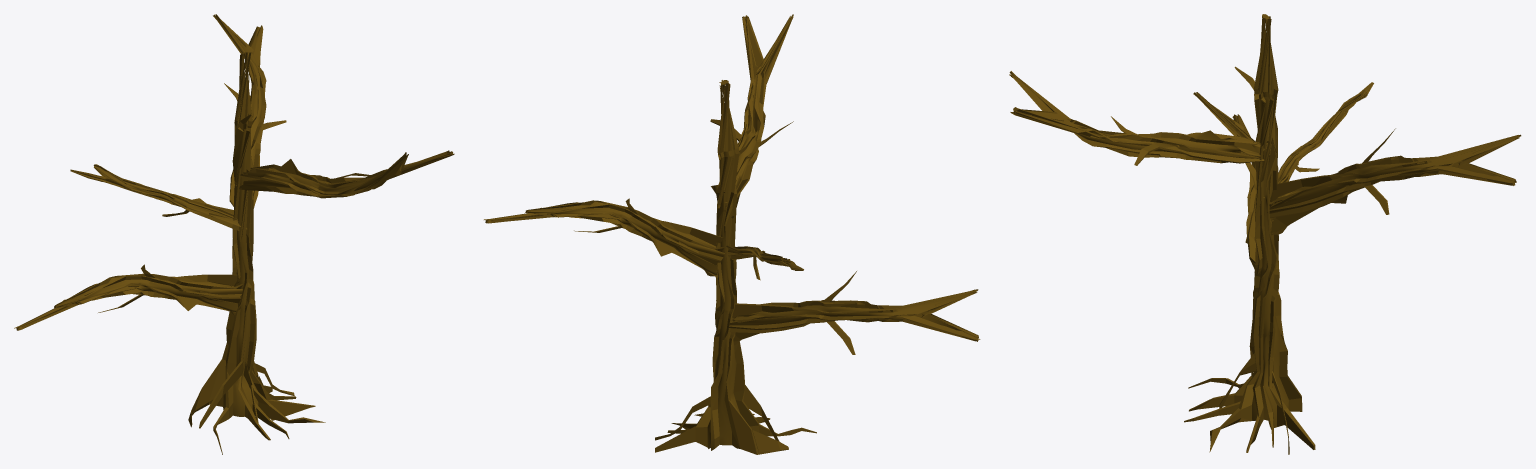
File: jungle_alpha_04.dae
3 renders of one model, left to right at view 1: azimuth 30°, elevation 25°; view 2: azimuth 150°, elevation 25°; view 3: azimuth 270°, elevation 25°, orthographic. The views are drawn at different scales.
Parts seen in each view (by area): view 1: polySurface3; view 2: polySurface3; view 3: polySurface3.
Part boxes in pixels (x1=…): polySurface3: x1=14, y1=14, x2=454, y2=454; polySurface3: x1=484, y1=14, x2=980, y2=454; polySurface3: x1=1009, y1=14, x2=1521, y2=454.
Size of the model in its own units: 106 by 101 by 114.
